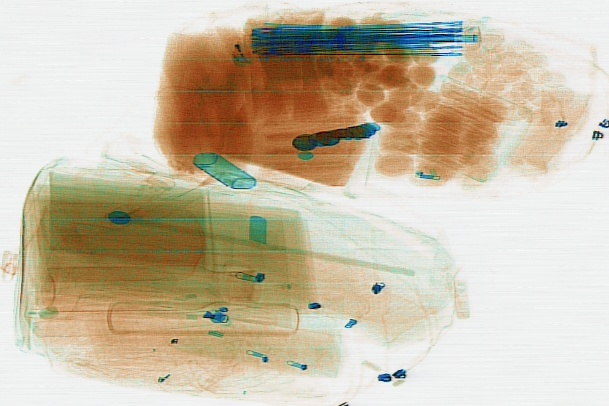lighter: (214, 22, 249, 67)
